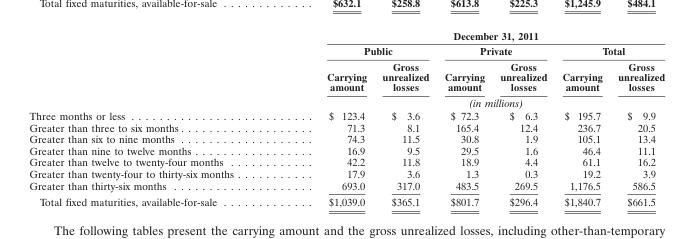table: (28, 29, 664, 208)
table column: (28, 29, 279, 208), (279, 29, 373, 208), (373, 29, 436, 208), (491, 29, 554, 208), (436, 29, 491, 208), (554, 29, 609, 208), (609, 29, 664, 208)
table column header: (28, 29, 664, 108)
table row: (28, 58, 664, 94), (28, 42, 664, 58), (28, 193, 664, 208), (28, 94, 664, 108), (28, 179, 664, 193), (28, 29, 664, 42), (28, 108, 664, 121), (28, 132, 664, 144), (28, 155, 664, 167), (28, 167, 664, 179), (28, 121, 664, 132), (28, 144, 664, 155)
table spanning cell: (279, 94, 664, 108), (279, 29, 664, 42), (279, 42, 436, 58), (436, 42, 554, 58), (554, 42, 664, 58)
